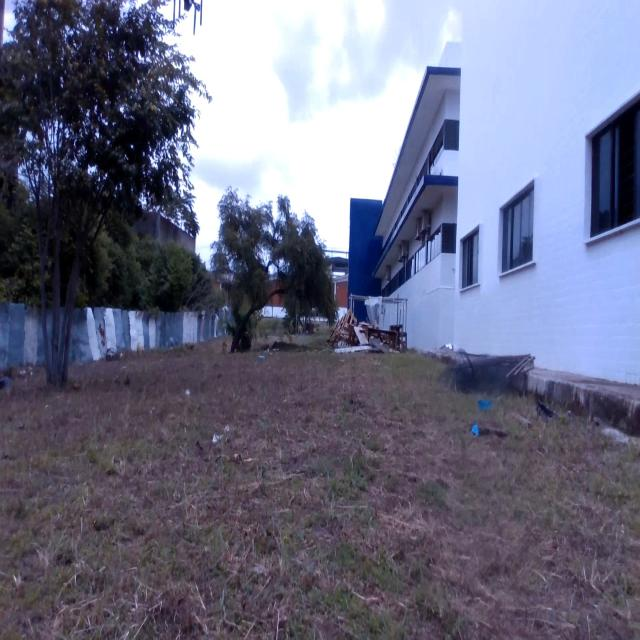-uav-: (169, 0, 211, 43)
